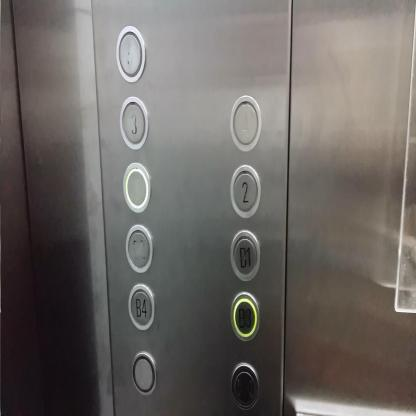2: (230, 165, 260, 217)
3: (120, 96, 148, 148)
4: (230, 95, 261, 151)
B1: (230, 230, 260, 281)
B3: (230, 292, 259, 341)
B4: (128, 284, 154, 329)
blur: (116, 25, 145, 82), (126, 224, 152, 272)
close: (230, 363, 258, 409)
empty: (122, 162, 150, 212), (130, 351, 156, 395)
